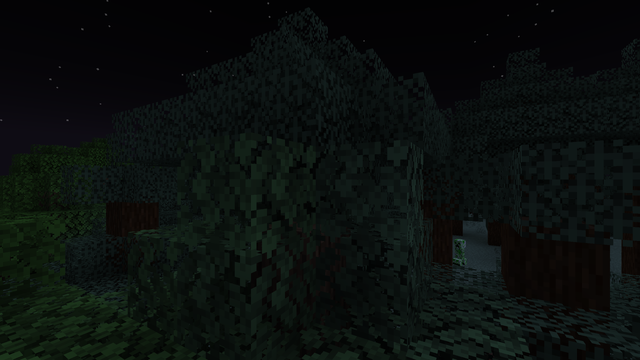creepers: (454, 237, 464, 265)
